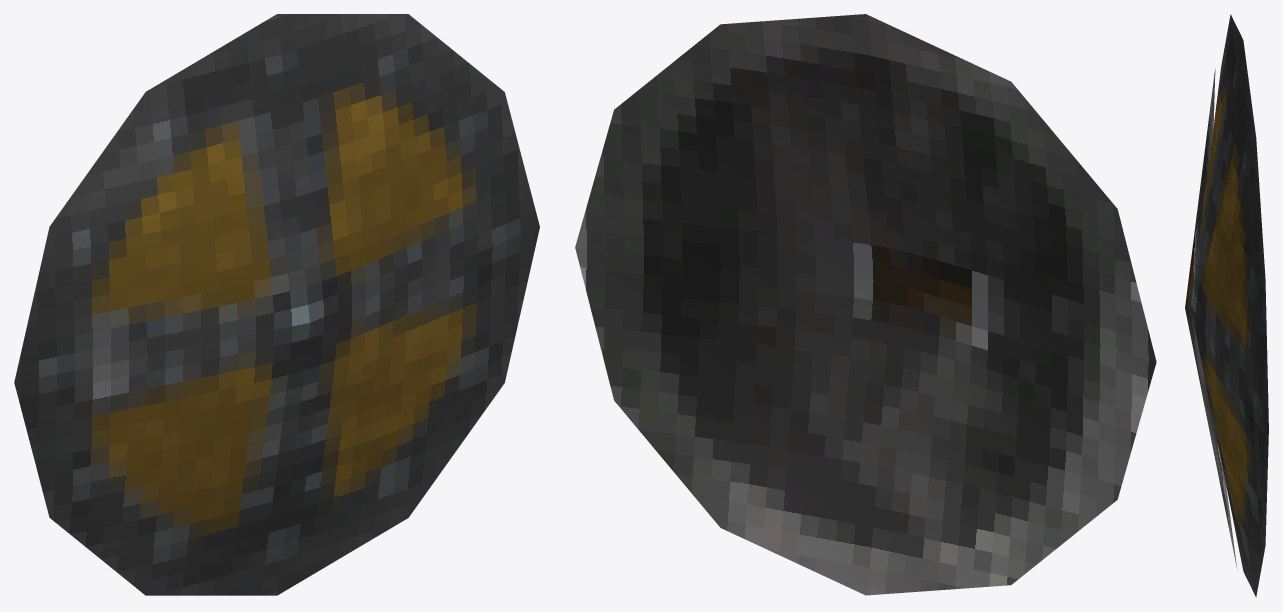
The picture shows the model from 3 angles, left to right: view 1: azimuth 30°, elevation 25°; view 2: azimuth 150°, elevation 25°; view 3: azimuth 270°, elevation 25°; orthographic projection. The views are drawn at different scales.
Parts seen in each view (by area): view 1: it203; view 2: it203; view 3: it203.
Boxes of the visible parts, left/top/right/bottom form: it203: left=14, top=14, right=539, bottom=595; it203: left=575, top=14, right=1156, bottom=595; it203: left=1185, top=14, right=1268, bottom=597.
Size of the model in its own units: 2.05 by 2.05 by 0.2937.
2 materials, 2 textured.
